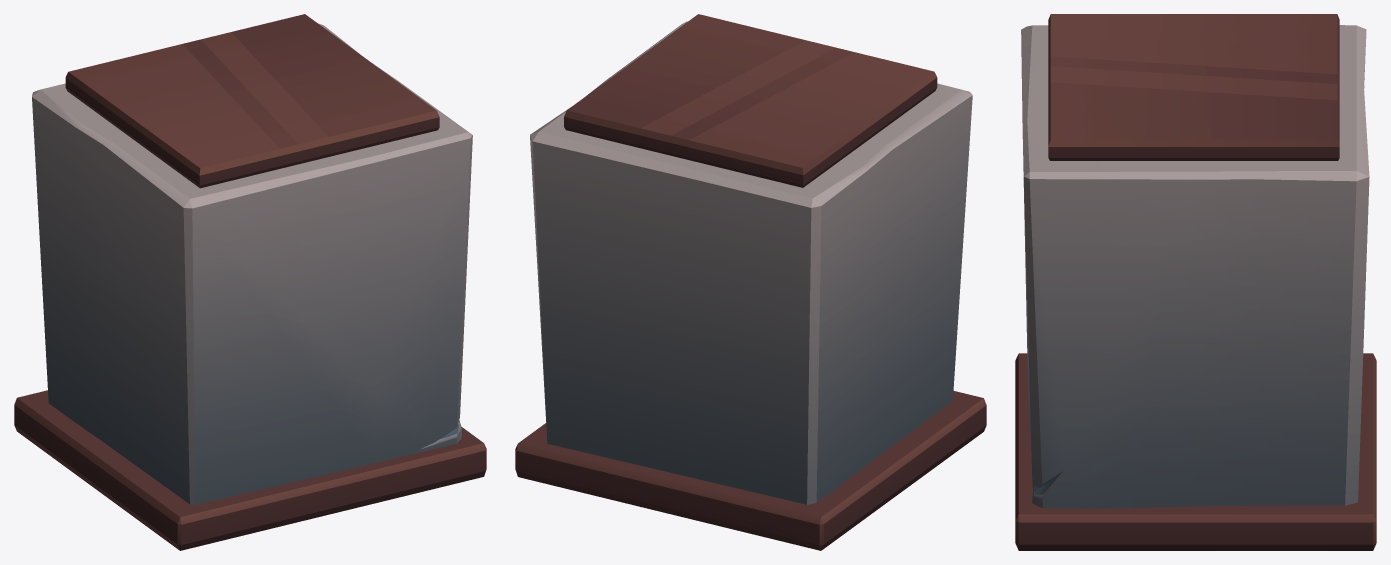
Rendered from DisplayCase_High_1x1_Classic_A.fbx.
The picture shows the model from 3 angles, left to right: view 1: azimuth 30°, elevation 25°; view 2: azimuth 150°, elevation 25°; view 3: azimuth 270°, elevation 25°; orthographic projection. The views are drawn at different scales.
Visible parts, largest first — view 1: DisplayCase_High_1x1_Classic_A; view 2: DisplayCase_High_1x1_Classic_A; view 3: DisplayCase_High_1x1_Classic_A.
Part boxes in pixels (x1,y1,x2,y2): DisplayCase_High_1x1_Classic_A: [14, 14, 486, 550]; DisplayCase_High_1x1_Classic_A: [515, 14, 986, 550]; DisplayCase_High_1x1_Classic_A: [1015, 14, 1376, 550].
Bounding box in the file's own units: 0.8904 × 1 × 0.8295.
